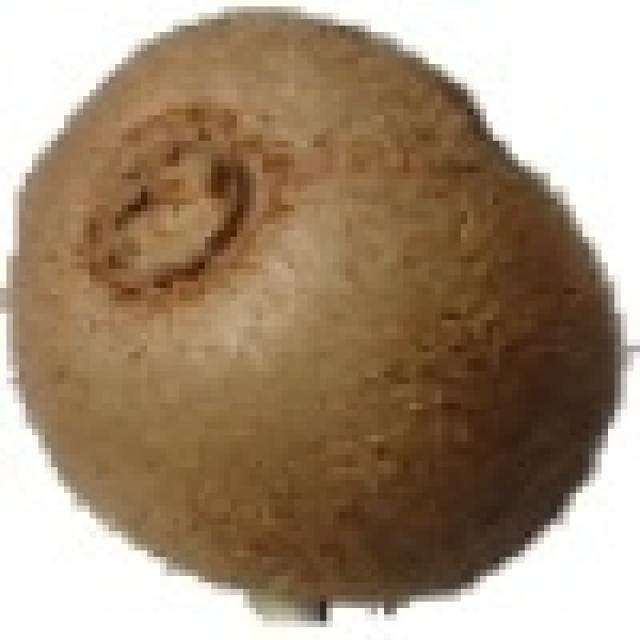kiwi: (11, 13, 613, 614)
